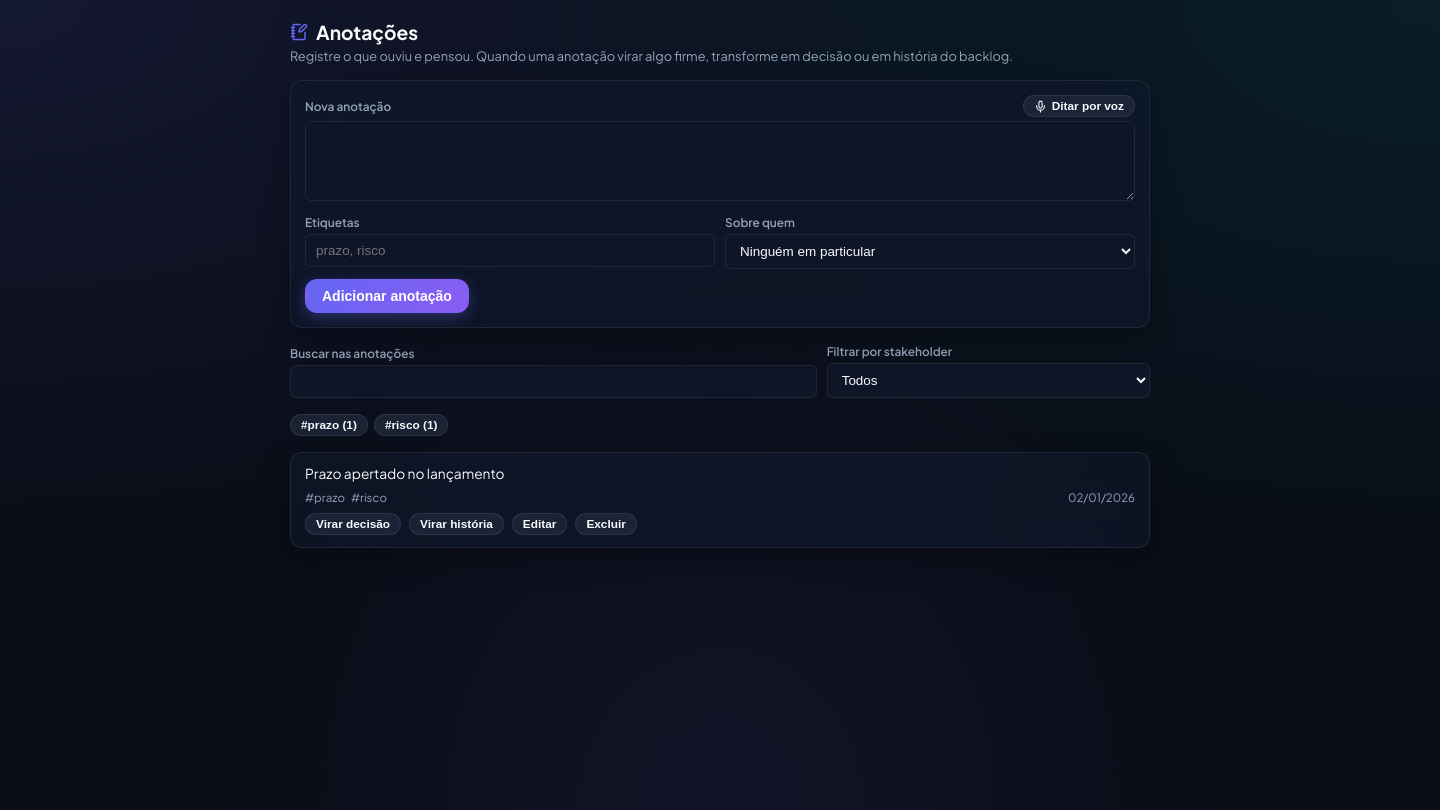
Test: NotesView: ações › cancelar a edição não altera nada
Click the button "Editar" at {"x": 540, "y": 524}, box [512,513,567,535]
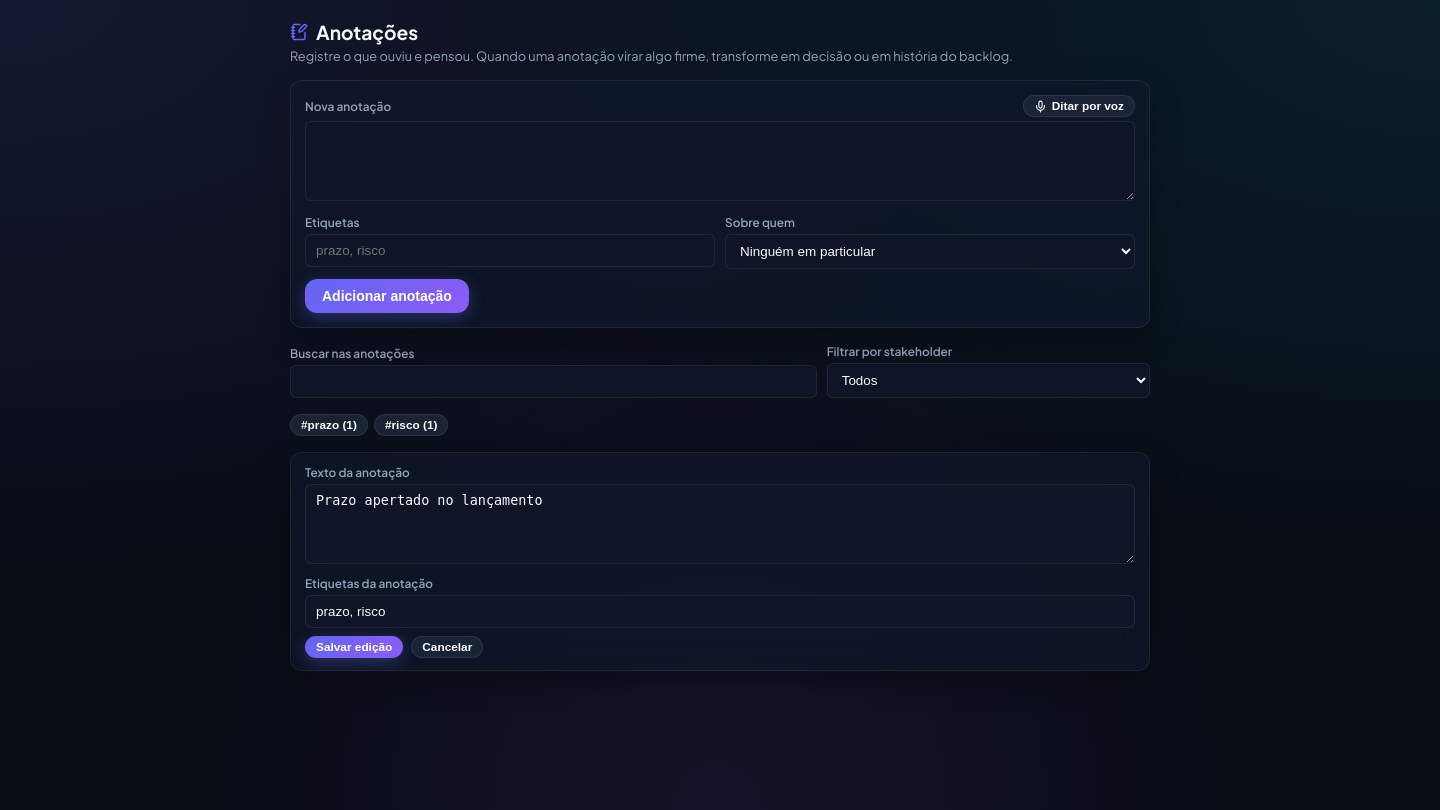
Click the button "Cancelar" at {"x": 447, "y": 647}, box [411,636,483,658]
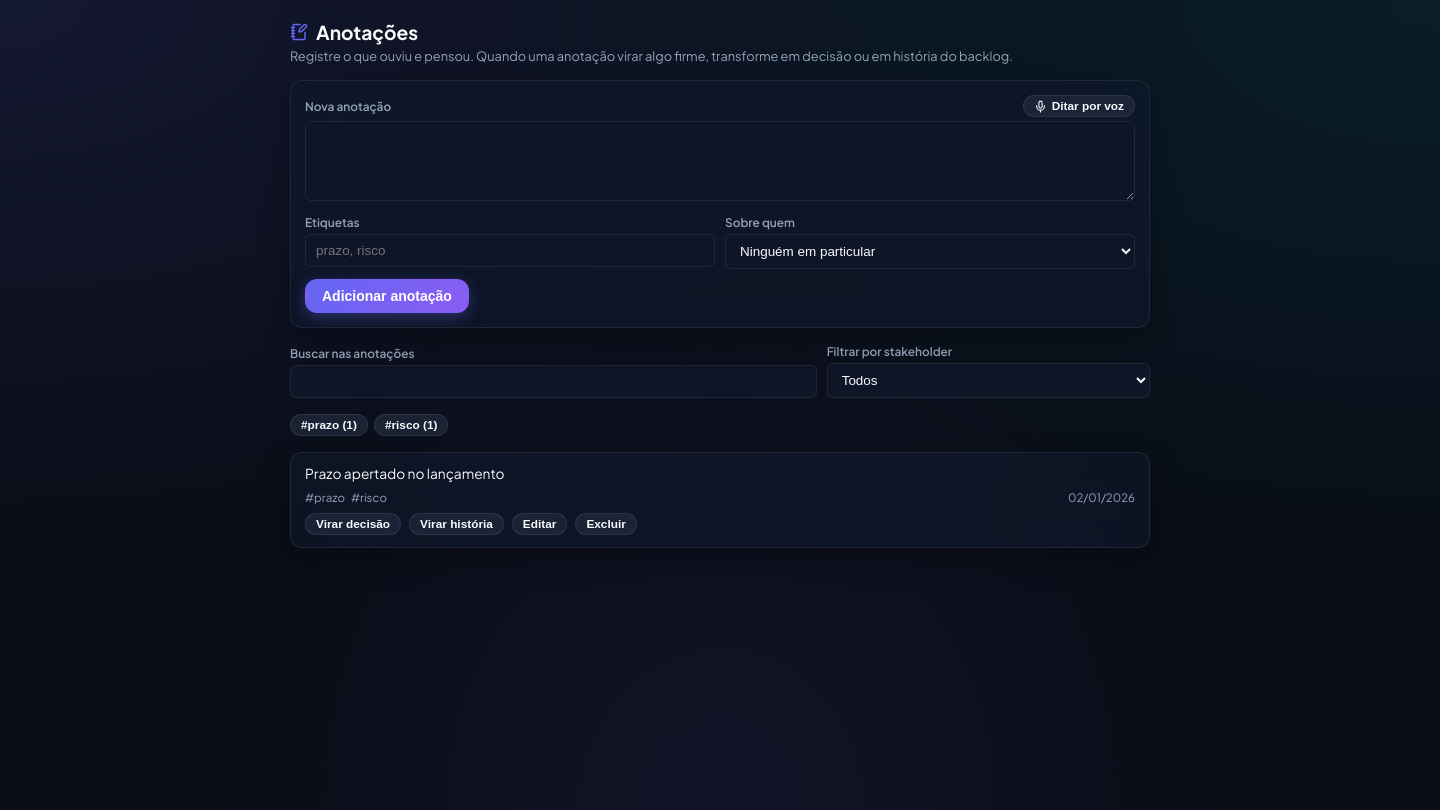
expect the text "Prazo apertado no lançamento" is shown: met, box [305,465,505,482]
